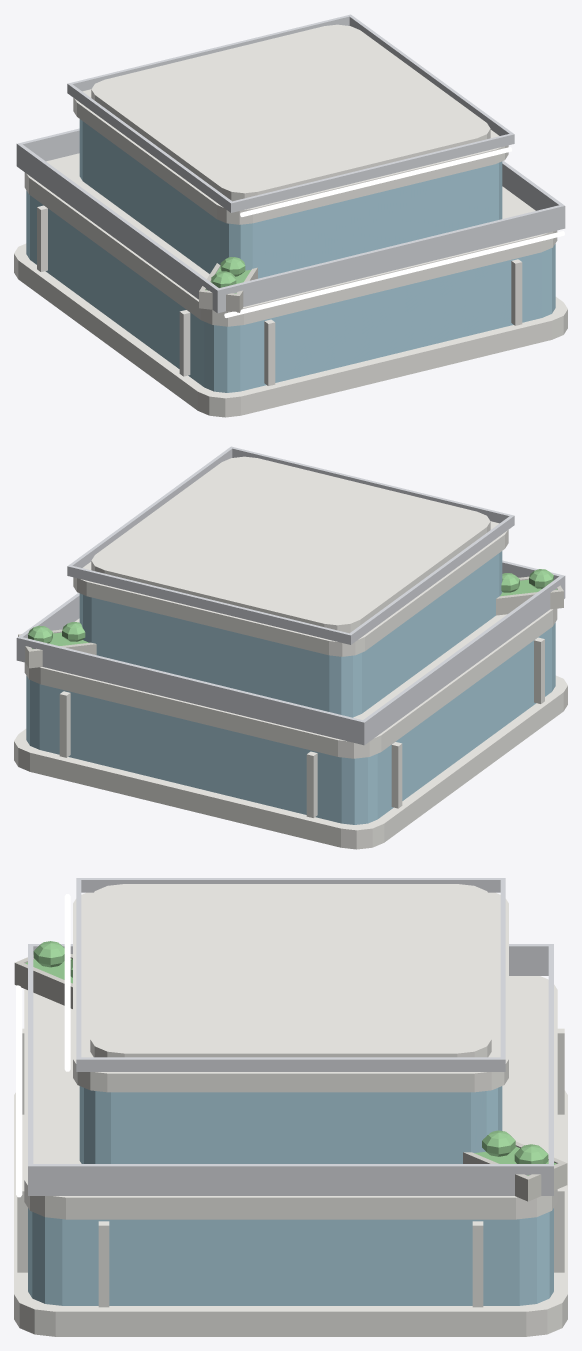
Rendered from arcology-towers-and-skyways-setback-transition-21c227b3__23237.glb.
3 views of the same model, one above another, from view 1: azimuth 30°, elevation 25°; view 2: azimuth 150°, elevation 25°; view 3: azimuth 270°, elevation 25° (orthographic). The views are drawn at different scales.
Parts seen in each view (by area): view 1: setback-transition; view 2: setback-transition; view 3: setback-transition.
Boxes of the visible parts, x1=… form: setback-transition: x1=14, y1=14, x2=567, y2=417; setback-transition: x1=14, y1=446, x2=567, y2=849; setback-transition: x1=14, y1=878, x2=567, y2=1336.
Bounding box in the file's own units: 16 × 8 × 16.
